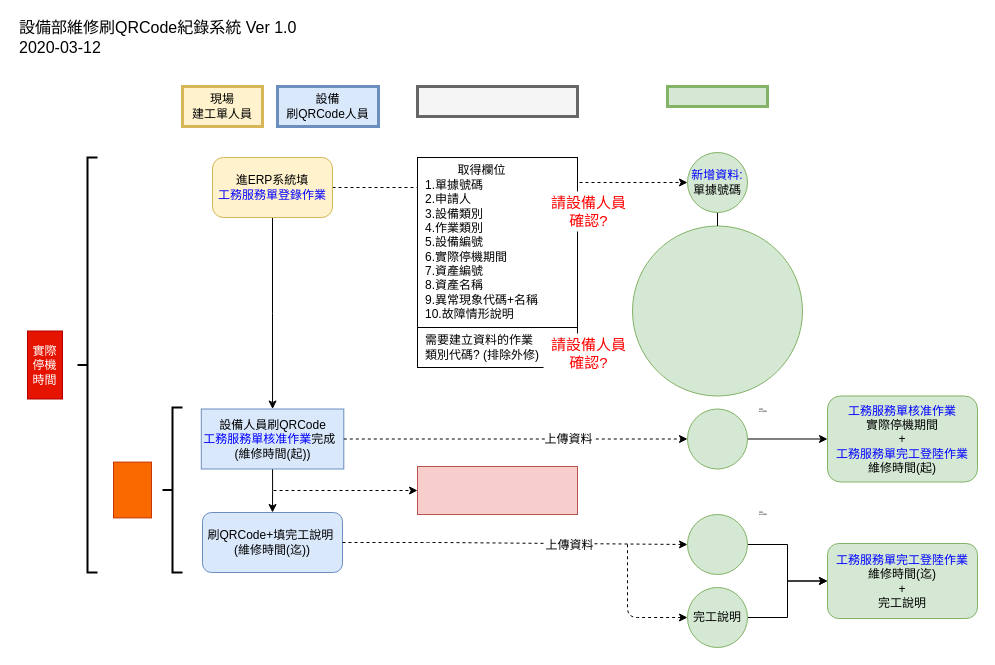
Some shapes in this 995 by 665 pixel diagram are drawn without their labels. Each missing label, with the centre of its shape:
"ERP同步RETEK" belongs at (x=497, y=101).
"前研開發" belongs at (x=717, y=96).
"維修 時間" belongs at (x=132, y=489).
"維修 時間(起)" belongs at (x=717, y=438).
"維修 時間(迄)" belongs at (x=717, y=544).
"通知刷條碼人員的上級 系統發出 Email (超過2小時-課長 4小時-副理)" belongs at (x=497, y=490).
"顯示欄位: 1.申請人 2.設備類別 3.作業類別 4.設備編號 5.實際停機期間 6.資產編號 7.資產名稱 8.異常現象代碼+名稱 9.故障情形說明" belongs at (x=717, y=310).
